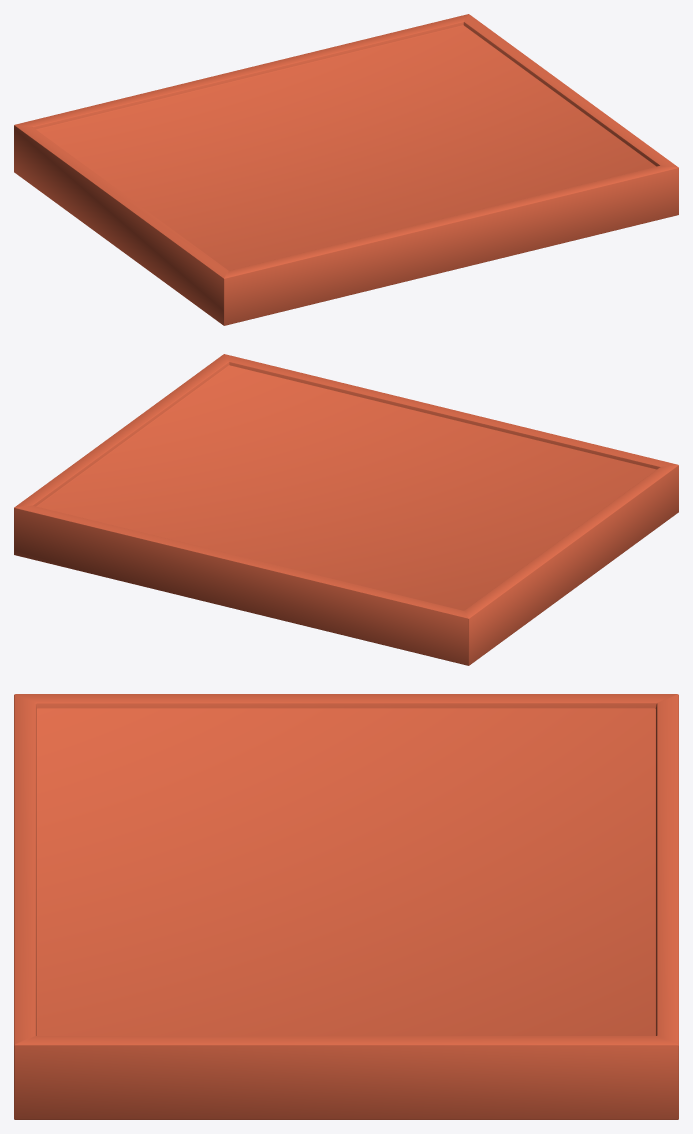
Rendered from Solitaire_Table_NewFix.fbx.
3 views of the same model, one above another, from view 1: azimuth 30°, elevation 25°; view 2: azimuth 150°, elevation 25°; view 3: azimuth 270°, elevation 25° (orthographic). The views are drawn at different scales.
Visible parts, largest first — view 1: Sol_Table; view 2: Sol_Table; view 3: Sol_Table.
Part boxes in pixels (<box>): Sol_Table: <box>14,14,678,325</box>; Sol_Table: <box>14,354,678,665</box>; Sol_Table: <box>14,694,678,1119</box>.
Size of the model in its own units: 400 by 40 by 320.
